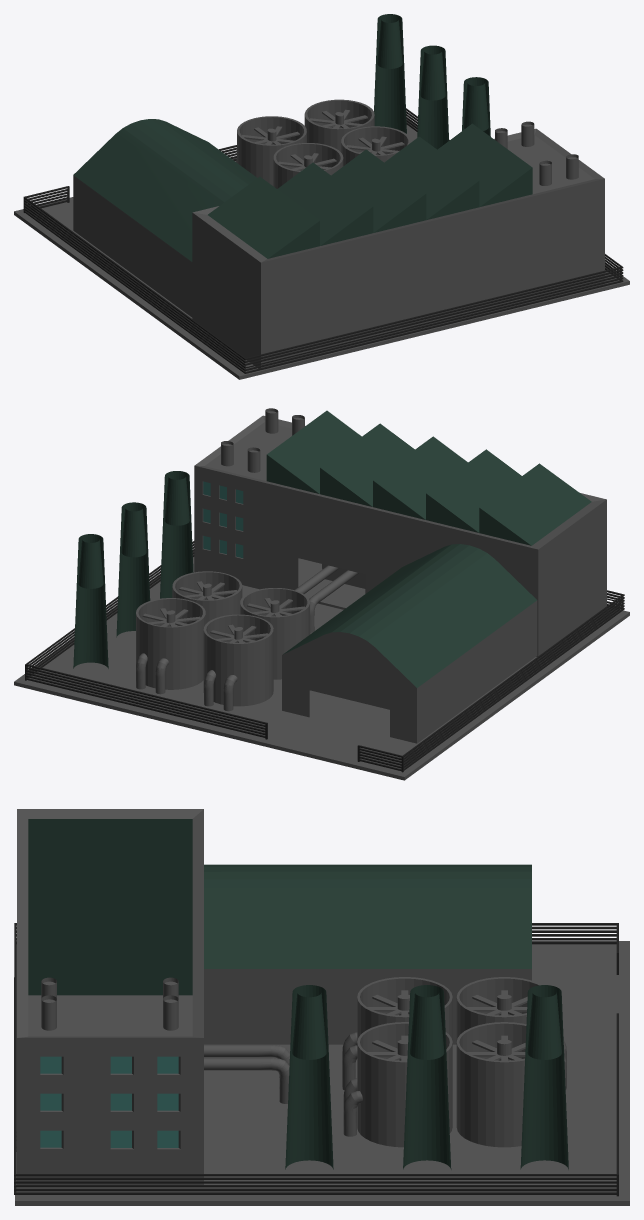
File: Factory.fbx
3 views of the same model, one above another, from view 1: azimuth 30°, elevation 25°; view 2: azimuth 150°, elevation 25°; view 3: azimuth 270°, elevation 25° (orthographic). The views are drawn at different scales.
Parts seen in each view (by area): view 1: Cube.005, Cube.008, Cube.007, Cube.006, Cube.003, Cylinder, Cube.001; view 2: Cube.005, Cube.008, Cube.003, Cube.007, Cube.001, Cylinder, Cube.006, Cube.004, Cube.002; view 3: Cube.005, Cube.007, Cube.008, Cube.003, Cylinder, Cube.006, Cube.001, Cube.002, Cube.004.
Boxes of the visible parts, left/top/right/bottom form: Cube.005: left=14, top=119, right=629, bottom=379; Cube.008: left=208, top=123, right=532, bottom=258; Cube.007: left=73, top=119, right=257, bottom=261; Cube.006: left=23, top=108, right=623, bottom=373; Cube.003: left=236, top=99, right=410, bottom=188; Cylinder: left=374, top=14, right=490, bottom=149; Cube.001: left=73, top=175, right=192, bottom=317; Cube.005: left=14, top=408, right=629, bottom=780; Cube.008: left=266, top=410, right=591, bottom=545; Cube.003: left=136, top=571, right=310, bottom=711; Cube.007: left=283, top=544, right=536, bottom=687; Cube.001: left=282, top=600, right=537, bottom=743; Cylinder: left=73, top=471, right=193, bottom=668; Cube.006: left=25, top=541, right=624, bottom=772; Cube.004: left=294, top=565, right=358, bottom=632; Cube.002: left=203, top=481, right=243, bottom=558; Cube.005: left=15, top=809, right=629, bottom=1205; Cube.007: left=204, top=864, right=531, bottom=968; Cube.008: left=28, top=819, right=192, bottom=995; Cube.003: left=342, top=977, right=566, bottom=1147; Cylinder: left=285, top=985, right=568, bottom=1169; Cube.006: left=14, top=923, right=618, bottom=1196; Cube.001: left=204, top=969, right=531, bottom=1044; Cube.002: left=40, top=1056, right=178, bottom=1147; Cube.004: left=204, top=1045, right=289, bottom=1103.
Bounding box in the file's own units: 7.49 × 2.49 × 7.5.
